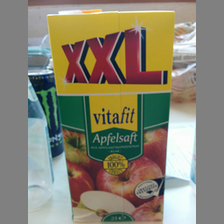juice: (47, 10, 176, 223)
